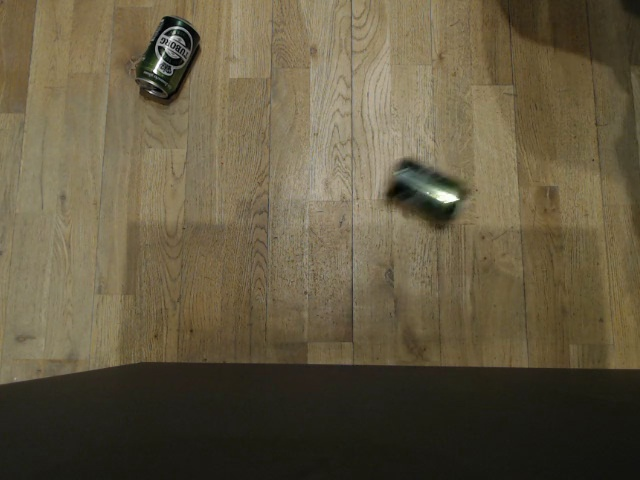beer: (382, 155, 467, 227), (132, 13, 202, 100)
